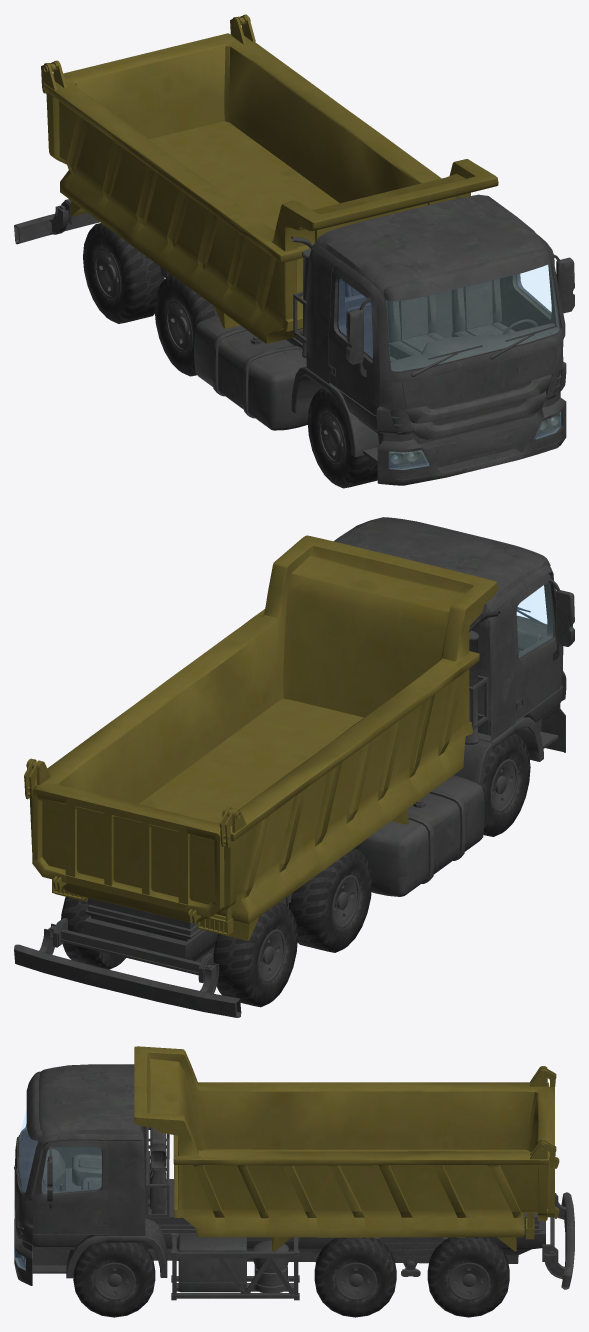
File: tipper.glb
3 views of the same model, one above another, from view 1: azimuth 30°, elevation 25°; view 2: azimuth 150°, elevation 25°; view 3: azimuth 270°, elevation 25° (orthographic). The views are drawn at different scales.
Visible parts, largest first — view 1: dump_truck_01; view 2: dump_truck_01; view 3: dump_truck_01.
Part boxes in pixels (<box>): dump_truck_01: <box>14,14,574,488</box>; dump_truck_01: <box>14,517,574,1017</box>; dump_truck_01: <box>14,1046,574,1317</box>.
Size of the model in its own units: 2.18 by 2.3 by 5.82.
Materials: 6 (5 with a texture image).
